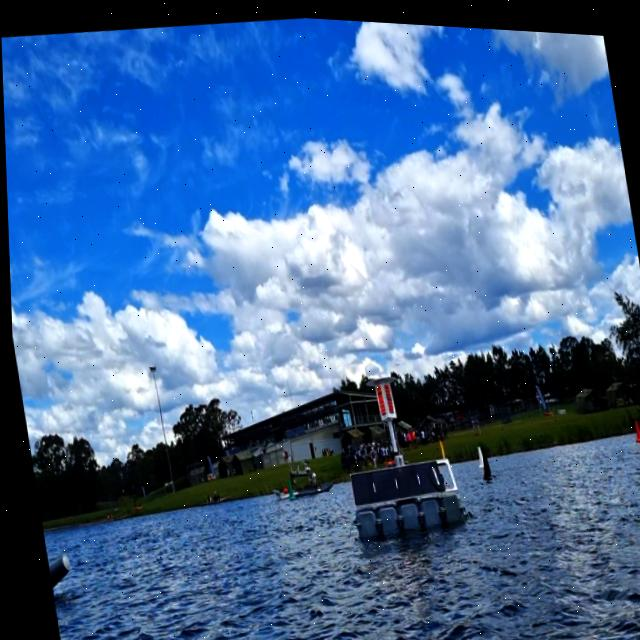led: (379, 378, 391, 410), (373, 379, 384, 411)
